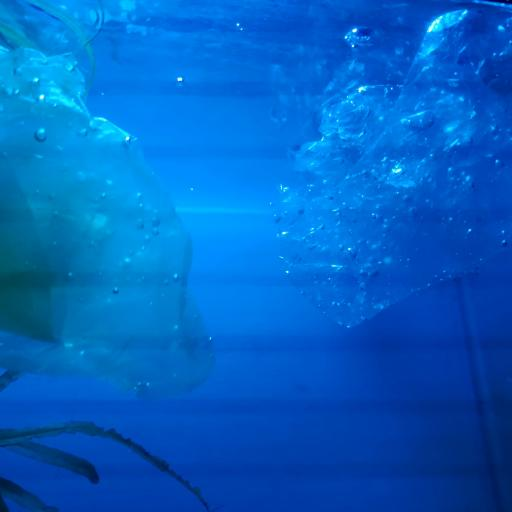plastic_bag: (275, 6, 512, 333), (2, 43, 217, 399)
